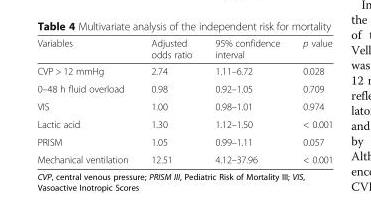table: (36, 37, 332, 164)
table column: (36, 37, 139, 164), (202, 37, 290, 164), (139, 37, 202, 164), (290, 37, 332, 164)
table column header: (36, 37, 332, 62)
table row: (36, 37, 332, 62), (36, 79, 332, 97), (36, 114, 332, 132), (36, 132, 332, 150), (36, 62, 332, 79), (36, 97, 332, 114), (36, 150, 332, 164)
